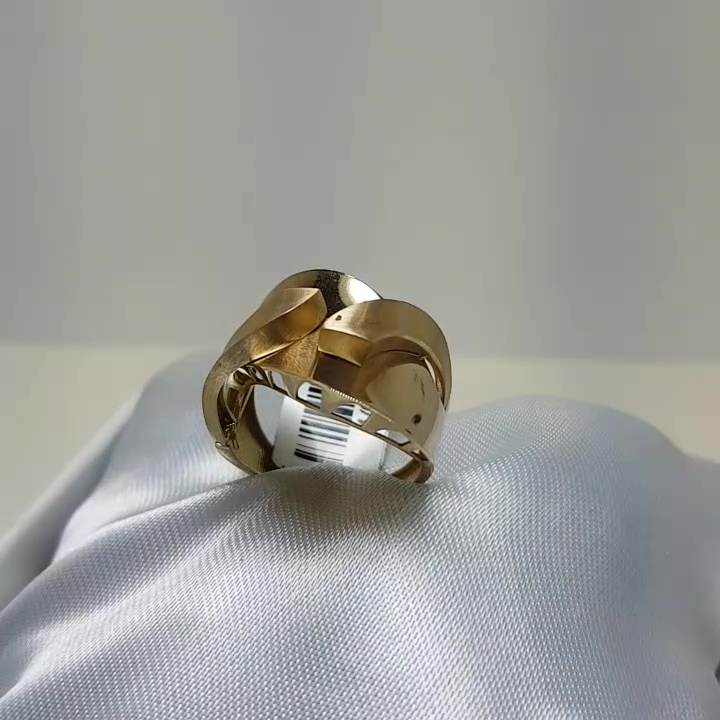Ring 4: (198, 267, 459, 500)
